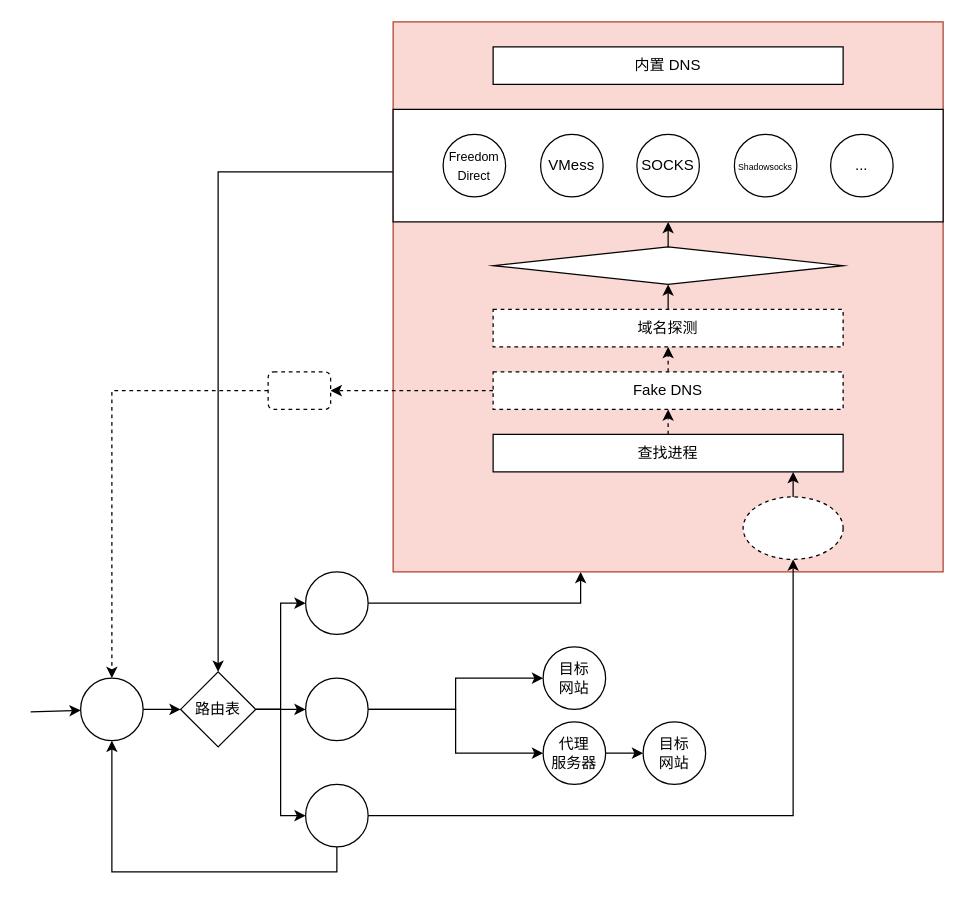
This 965x904 diagram has some shape labels left out. Here are the shapes that lost their labels. From the top down, the box of each, then its label:
(492, 246, 843, 284): 规则匹配
(267, 371, 331, 409): Fake IP
(742, 496, 843, 559): HTTP/SOCKS
(304, 571, 368, 634): TUN
(79, 677, 143, 741): 应用 进程
(304, 677, 368, 741): 以太网 eth0 en0
(304, 783, 368, 847): 环回接口
